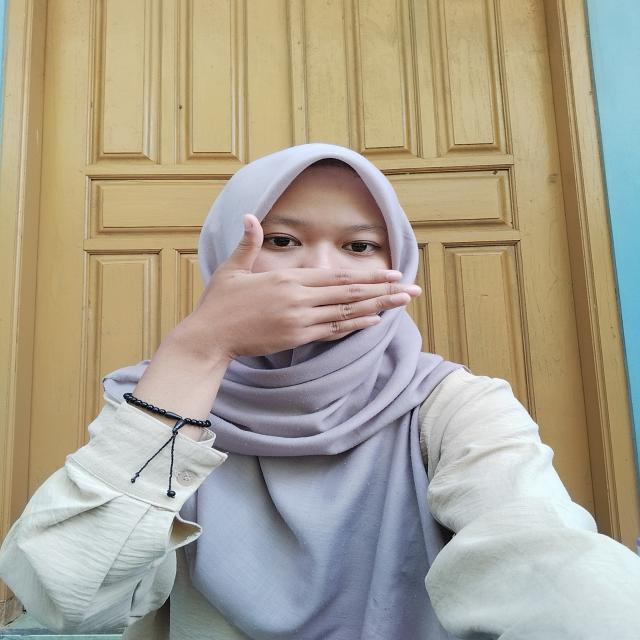buruk: (160, 208, 422, 356)
